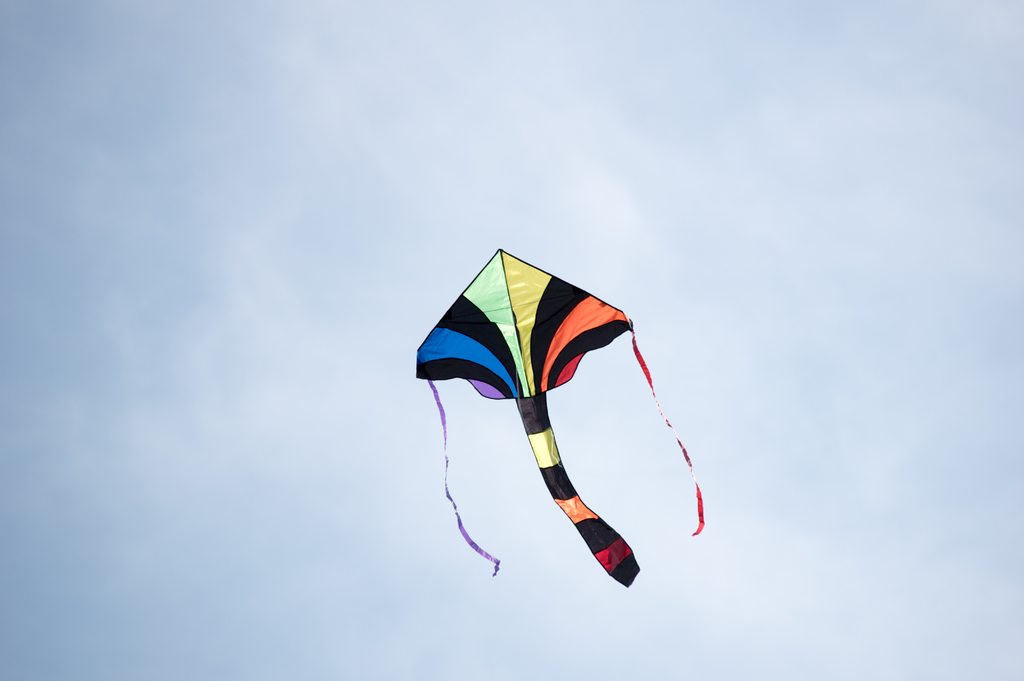kite: (412, 247, 712, 587)
